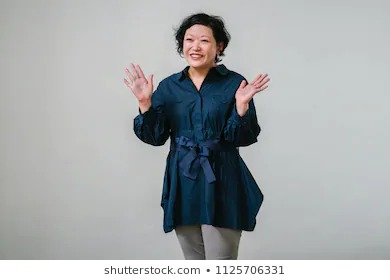C_blouse: (125, 62, 269, 233)
